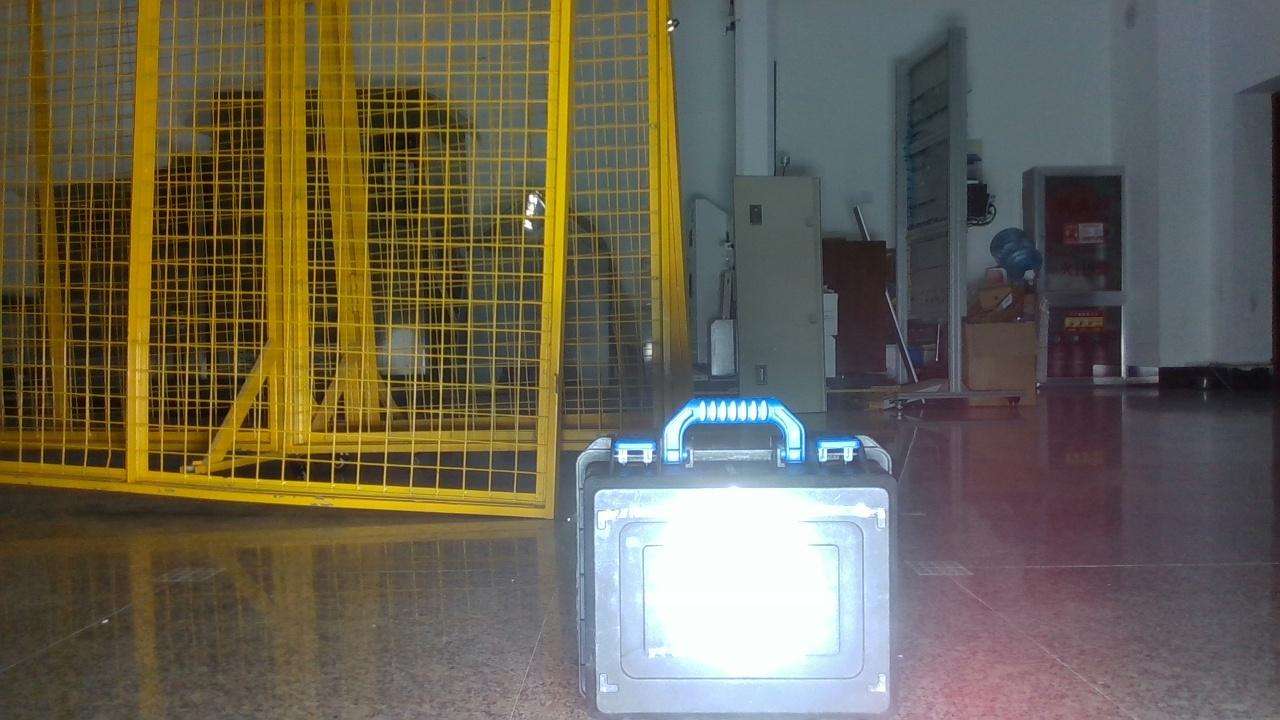toolkit: (575, 398, 895, 714)
